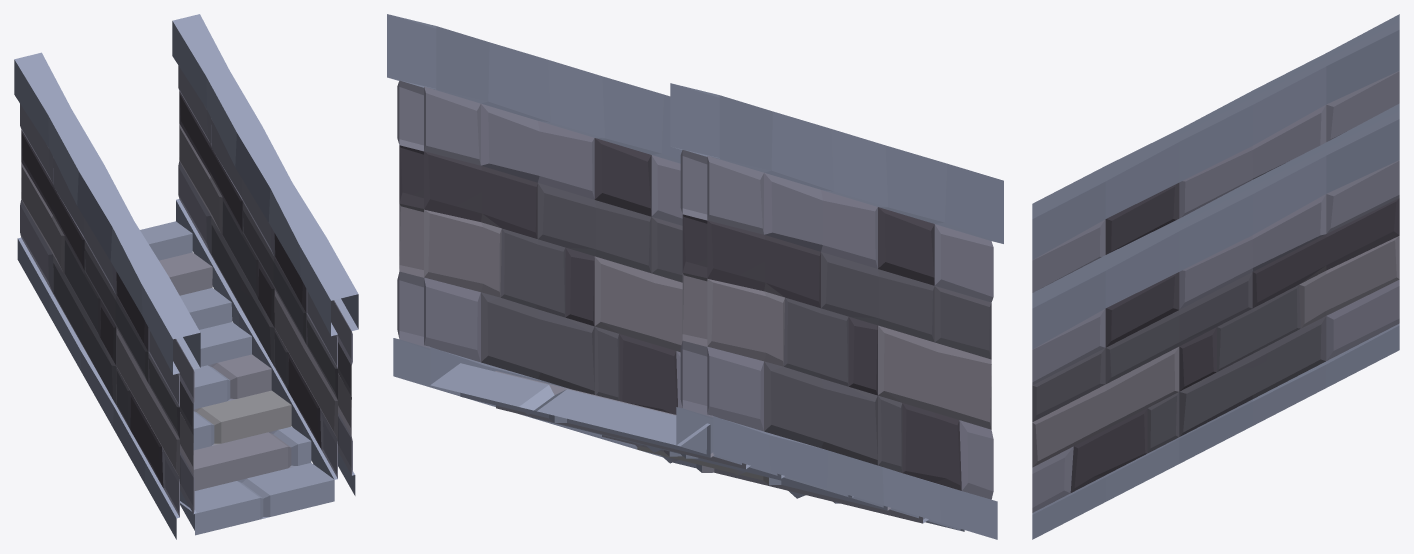
The model's file is stairs_small.fbx.
3 views of the same model, side by side, from view 1: azimuth 30°, elevation 25°; view 2: azimuth 150°, elevation 25°; view 3: azimuth 270°, elevation 25° (orthographic). The views are drawn at different scales.
Visible parts, largest first — view 1: stairs_small; view 2: stairs_small; view 3: stairs_small.
Boxes of the visible parts, x1,y1,x2,y2 form: stairs_small: (14, 14, 358, 539); stairs_small: (387, 14, 1003, 539); stairs_small: (1032, 14, 1399, 539).
Bounding box in the file's own units: 408 × 762 × 600.
